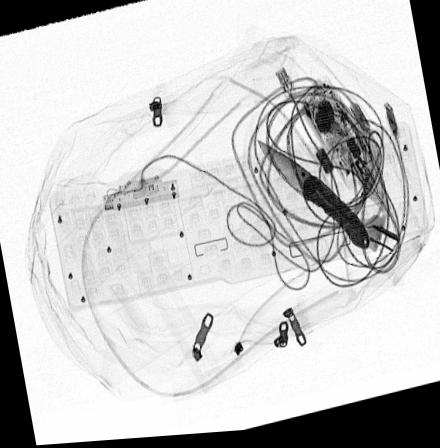Knife: (256, 144, 370, 254)
